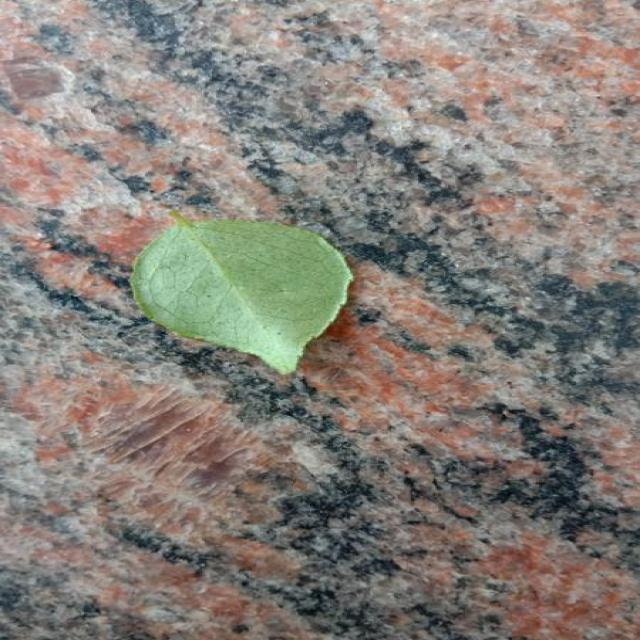curry: (132, 212, 352, 374)
